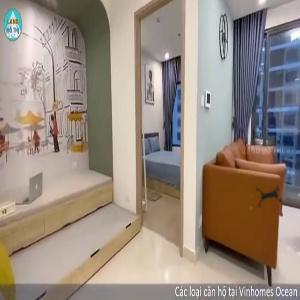drone: (239, 170, 299, 230)
